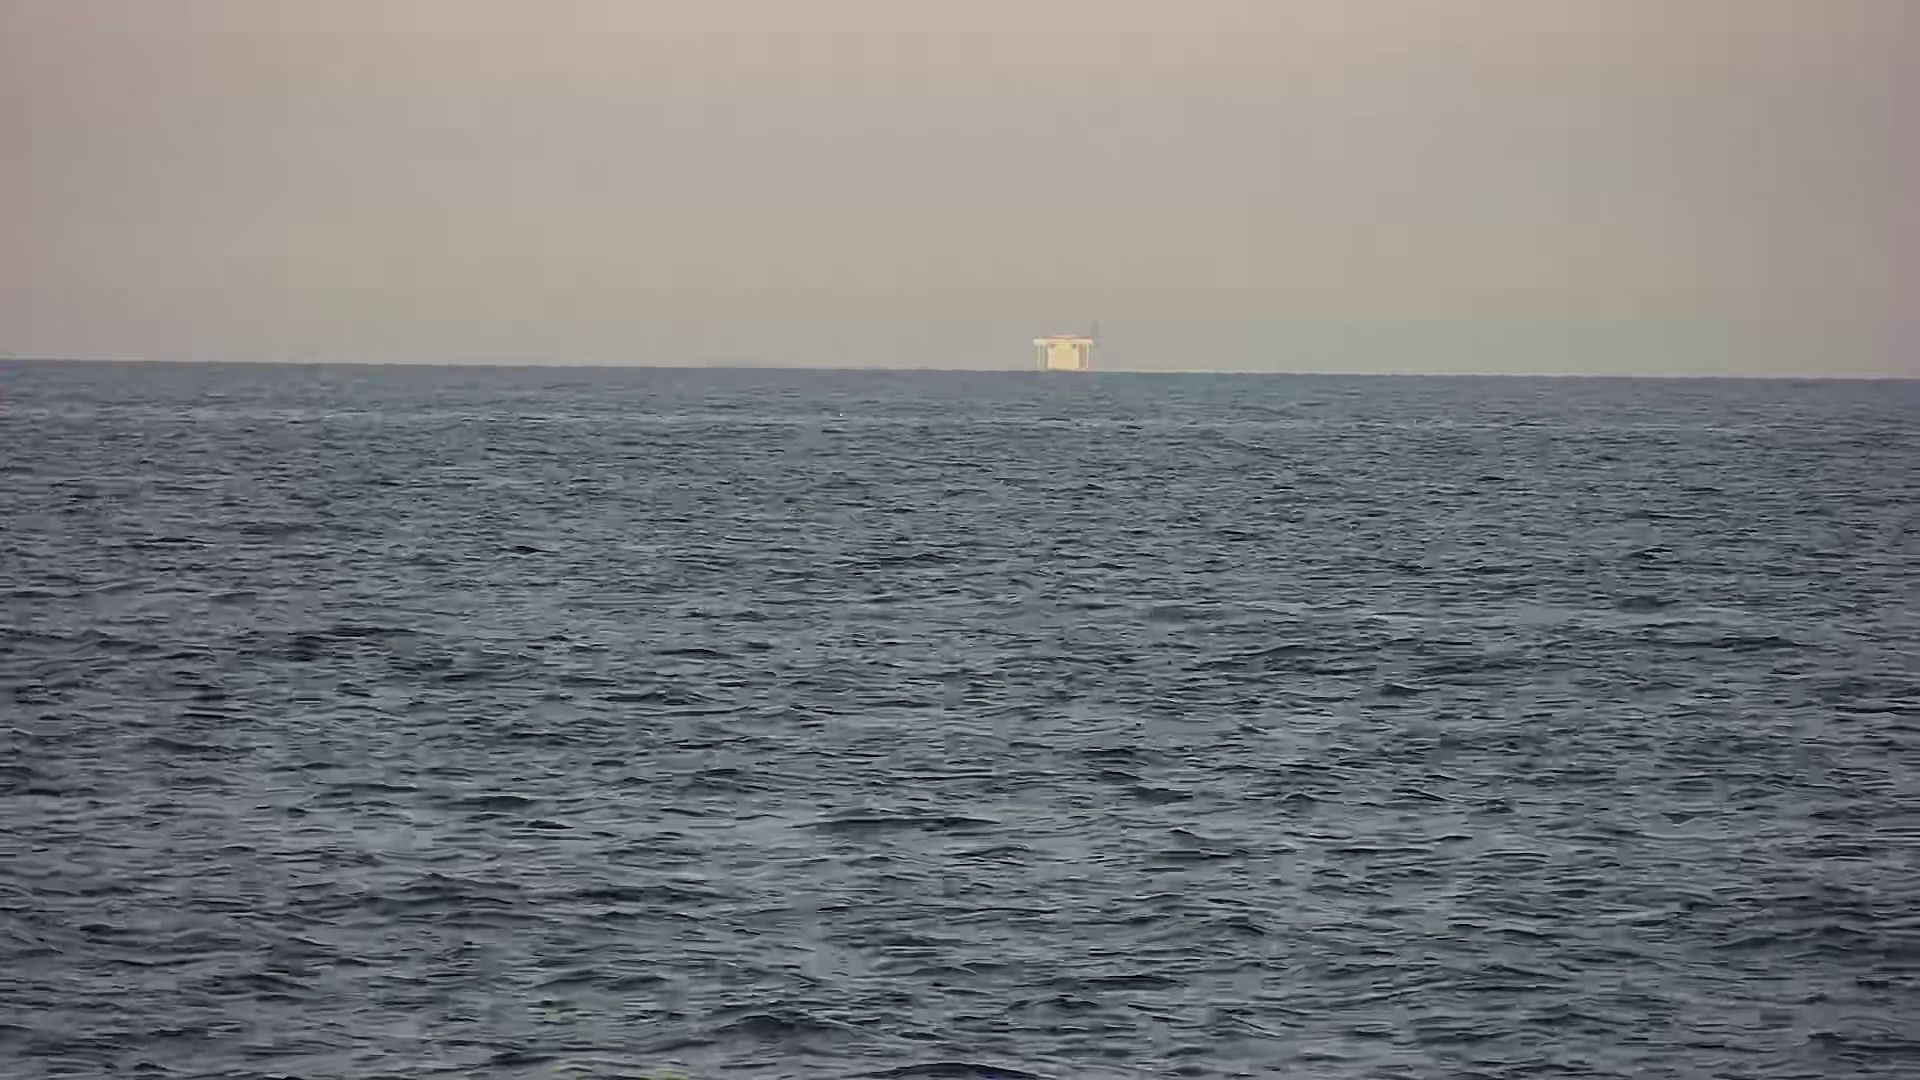platform: (1021, 316, 1116, 375)
